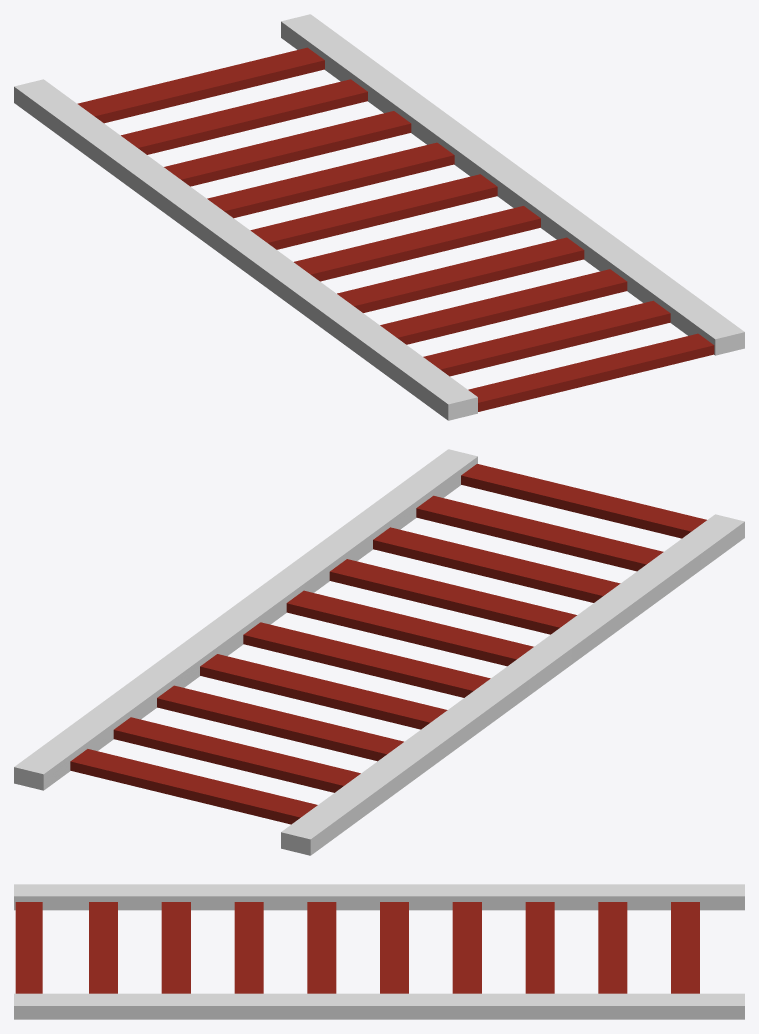
Rendered from Rail0Degree.fbx.
The picture shows the model from 3 angles, top to bottom: view 1: azimuth 30°, elevation 25°; view 2: azimuth 150°, elevation 25°; view 3: azimuth 270°, elevation 25°; orthographic projection. The views are drawn at different scales.
Visible parts, largest first — view 1: Rail0Degree; view 2: Rail0Degree; view 3: Rail0Degree.
Part boxes in pixels (x1=…): Rail0Degree: x1=14, y1=14, x2=744, y2=420; Rail0Degree: x1=14, y1=449, x2=744, y2=855; Rail0Degree: x1=14, y1=884, x2=744, y2=1019.
Size of the model in its own units: 396 by 20.92 by 1005.
